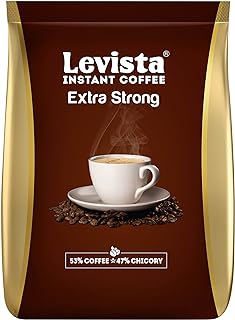Coffee: (3, 3, 235, 320)
